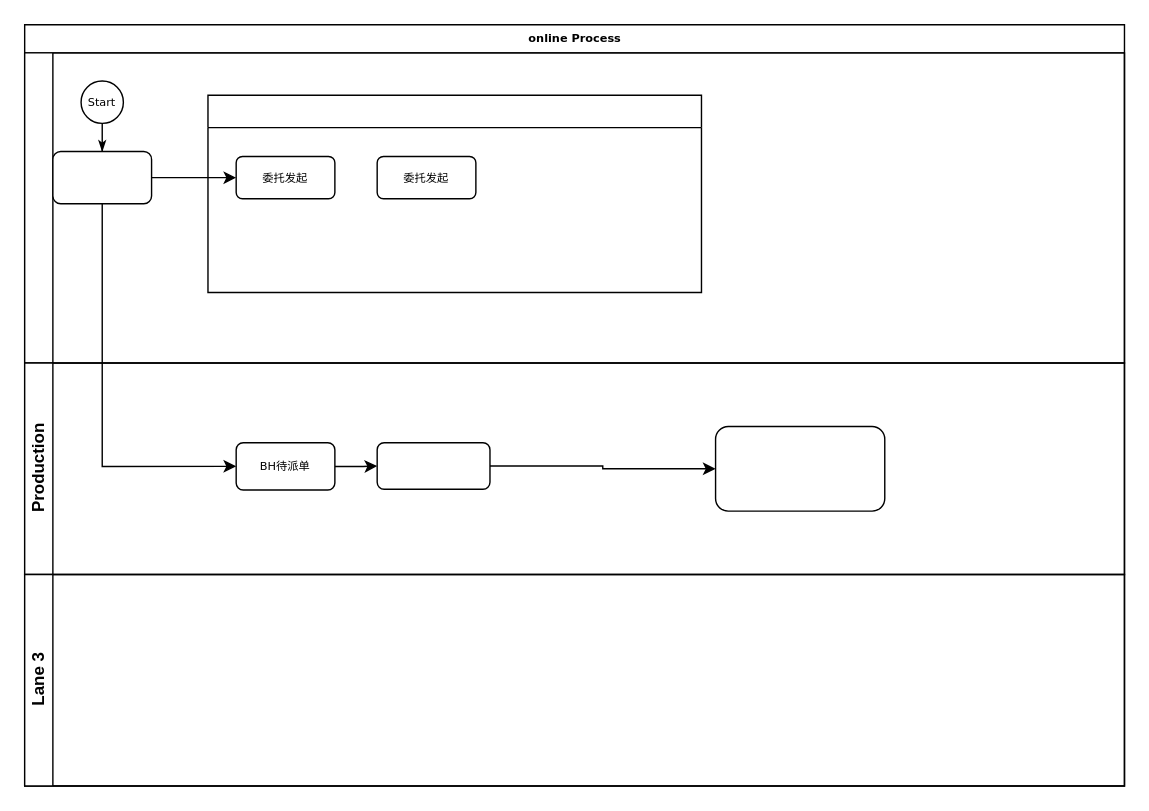
This 1149x811 diagram has some shape labels left out. The box of each missing label's shape, as (x1, y1, x2, y2) in pixels:
OA待派发: (376, 441, 490, 489)
Online: (23, 51, 1124, 363)
创建订单 (CBI开头的): (51, 150, 152, 204)
订单列表: (207, 94, 701, 293)
